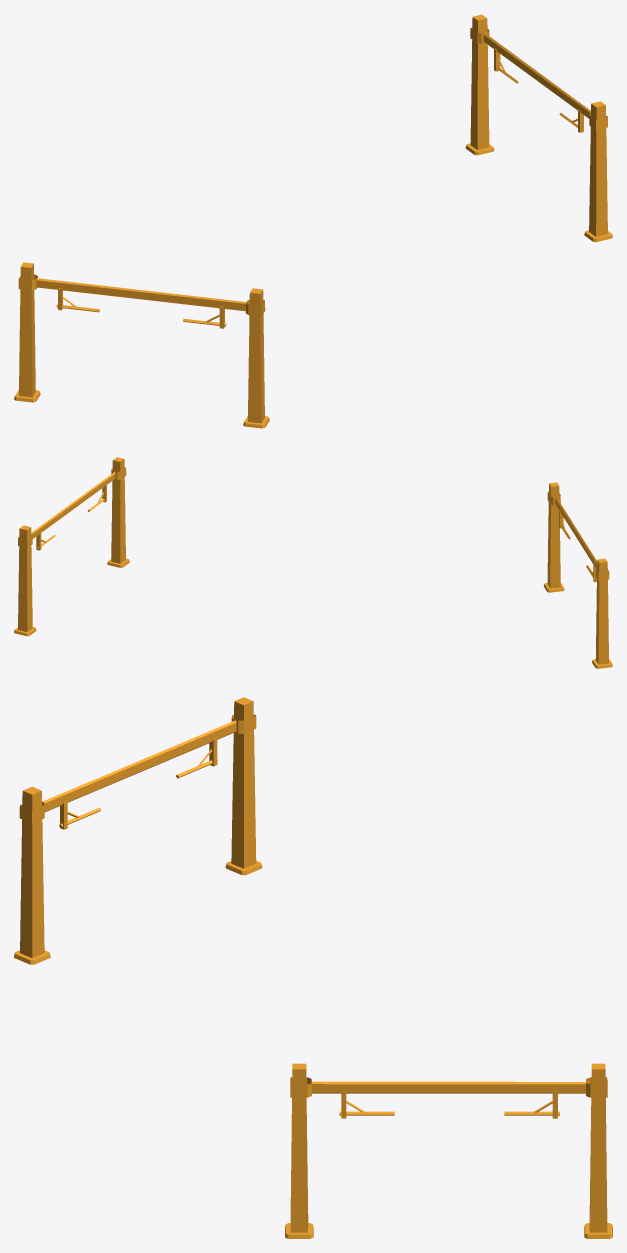
Rendered from SM_Train_Wiring_Turn_Double_Collider.fbx.
3 views of the same model, one above another, from view 1: azimuth 30°, elevation 25°; view 2: azimuth 150°, elevation 25°; view 3: azimuth 270°, elevation 25° (orthographic). The views are drawn at different scales.
Parts seen in each view (by area): view 1: SM_Train_Wiring_Turn_Double_Collider; view 2: SM_Train_Wiring_Turn_Double_Collider; view 3: SM_Train_Wiring_Turn_Double_Collider.
Part boxes in pixels (x1,y1,x2,y2): SM_Train_Wiring_Turn_Double_Collider: (14,14,612,428); SM_Train_Wiring_Turn_Double_Collider: (14,457,612,668); SM_Train_Wiring_Turn_Double_Collider: (14,697,612,1238).
Bounding box in the file's own units: 41.94 × 8.58 × 28.01.
